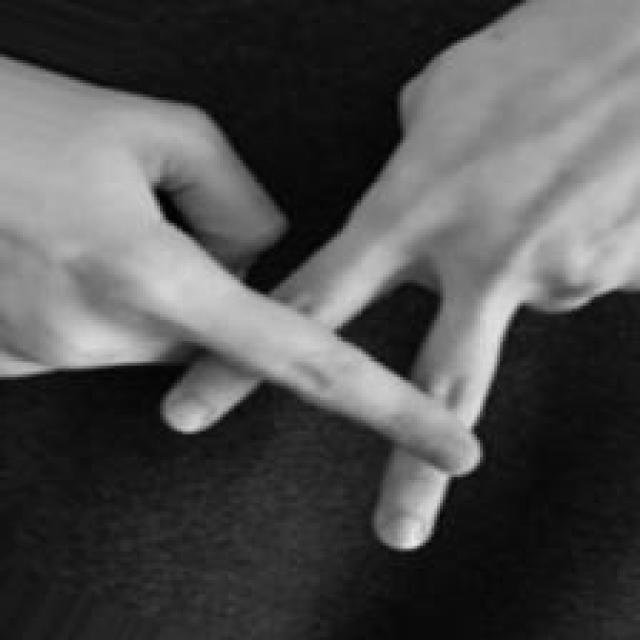A: (0, 43, 640, 554)
